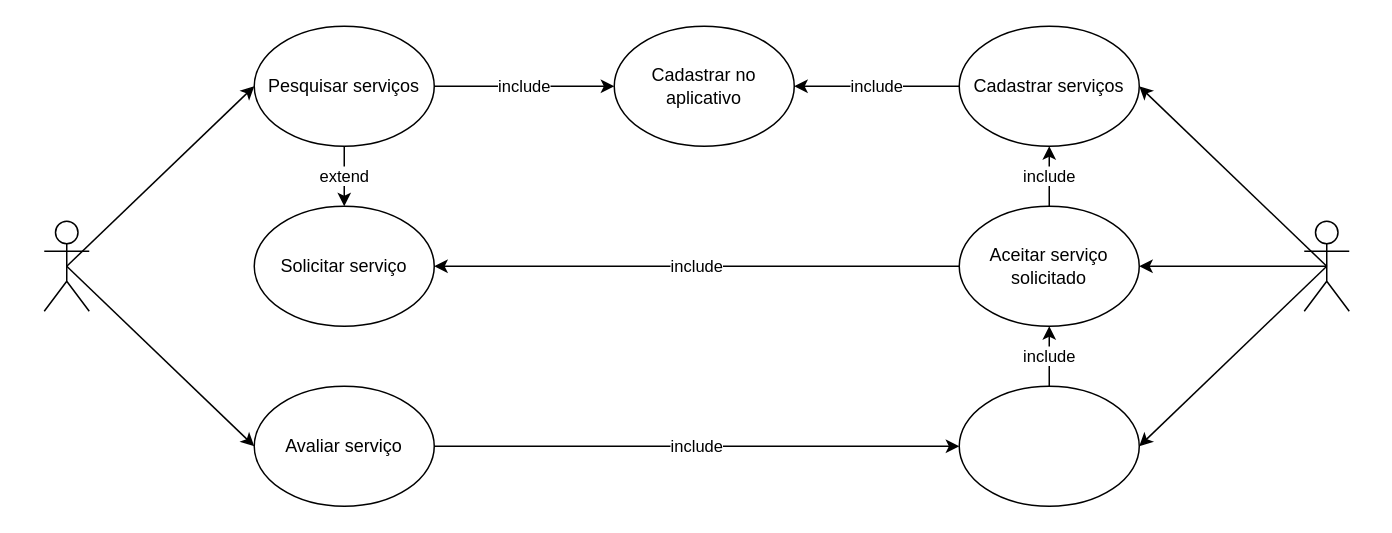
Some shapes in this 1392 by 533 pixel diagram are drawn without their labels. The shapes that lost their labels are listed below. From the top down, each one's box as (x1, y1, x2, y2) in pixels, then its label:
(43, 220, 89, 311): Solicitante
(1303, 220, 1349, 311): Prestador
(958, 385, 1139, 506): Encerrar serviço
